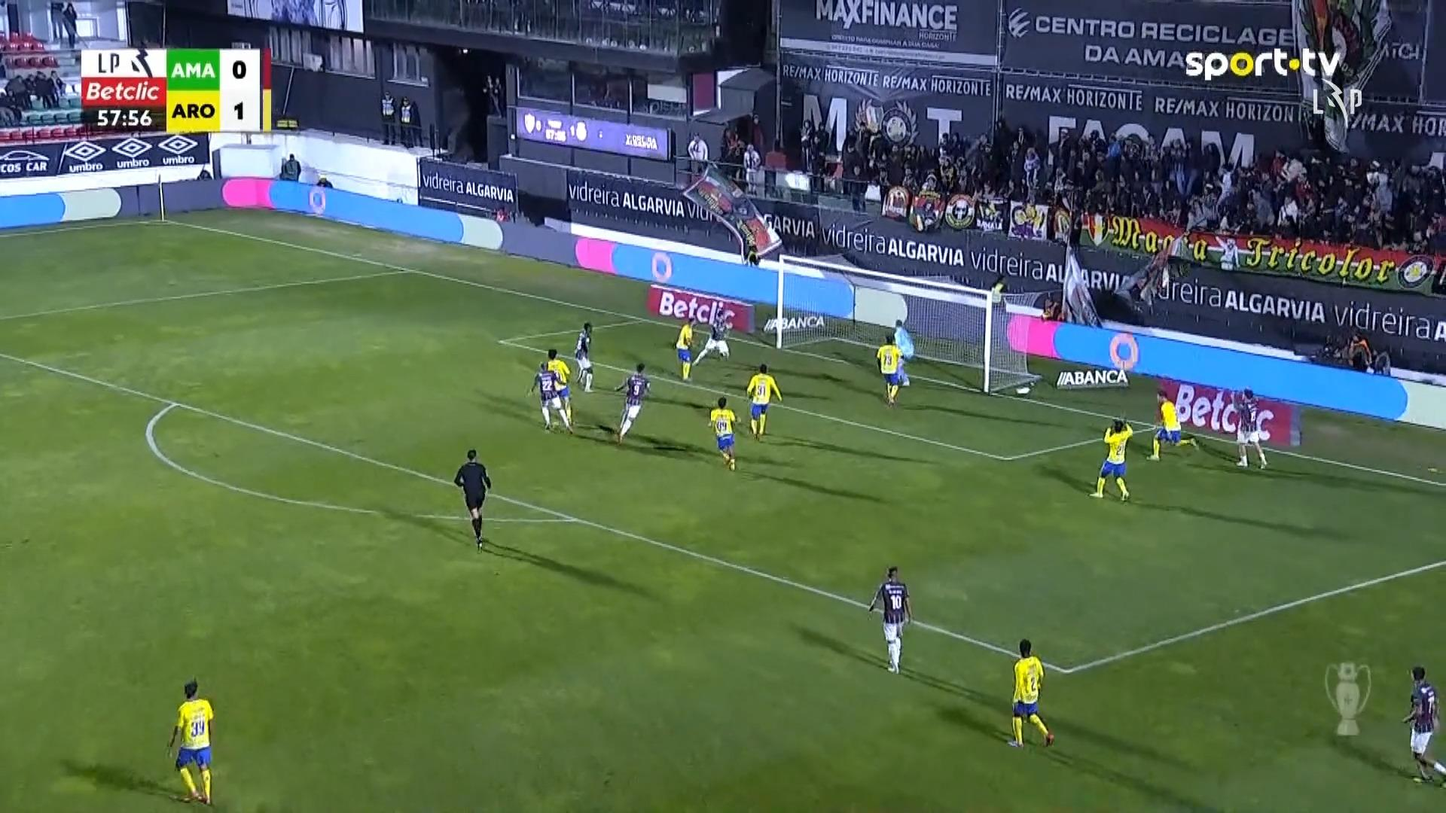goalkeeper: (892, 318, 914, 385)
player: (166, 678, 215, 805), (1006, 638, 1054, 748), (1401, 665, 1444, 783), (867, 565, 913, 674), (1145, 387, 1198, 461), (1088, 417, 1133, 502), (525, 361, 573, 433), (612, 362, 651, 443), (1231, 386, 1268, 468), (745, 362, 782, 441), (706, 395, 741, 470), (692, 306, 734, 366), (543, 347, 574, 425), (875, 334, 906, 406), (573, 321, 595, 392), (673, 317, 697, 381)
referee: (453, 448, 492, 550)
